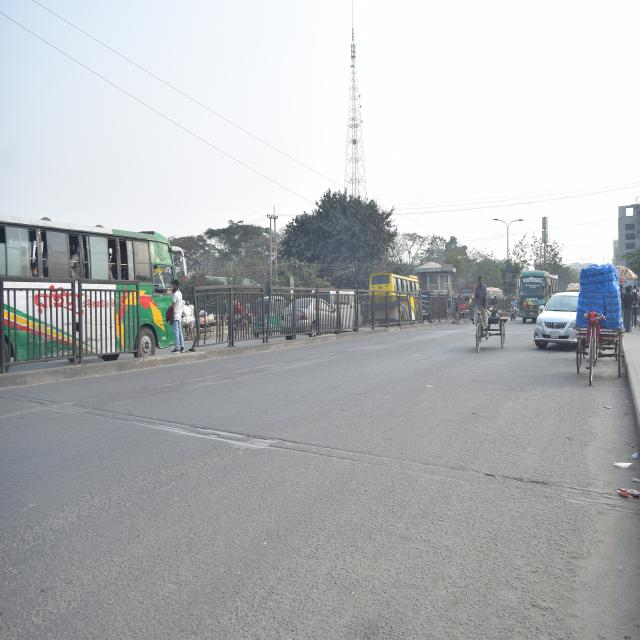bus: (0, 213, 190, 385), (518, 266, 552, 322)
car: (529, 291, 584, 349)
motorbike: (507, 294, 518, 324)
